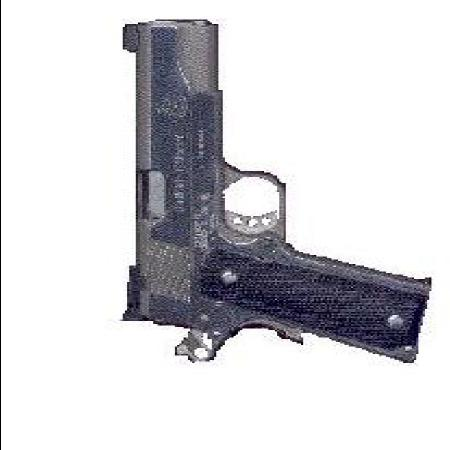Pistol: (118, 18, 422, 368)
